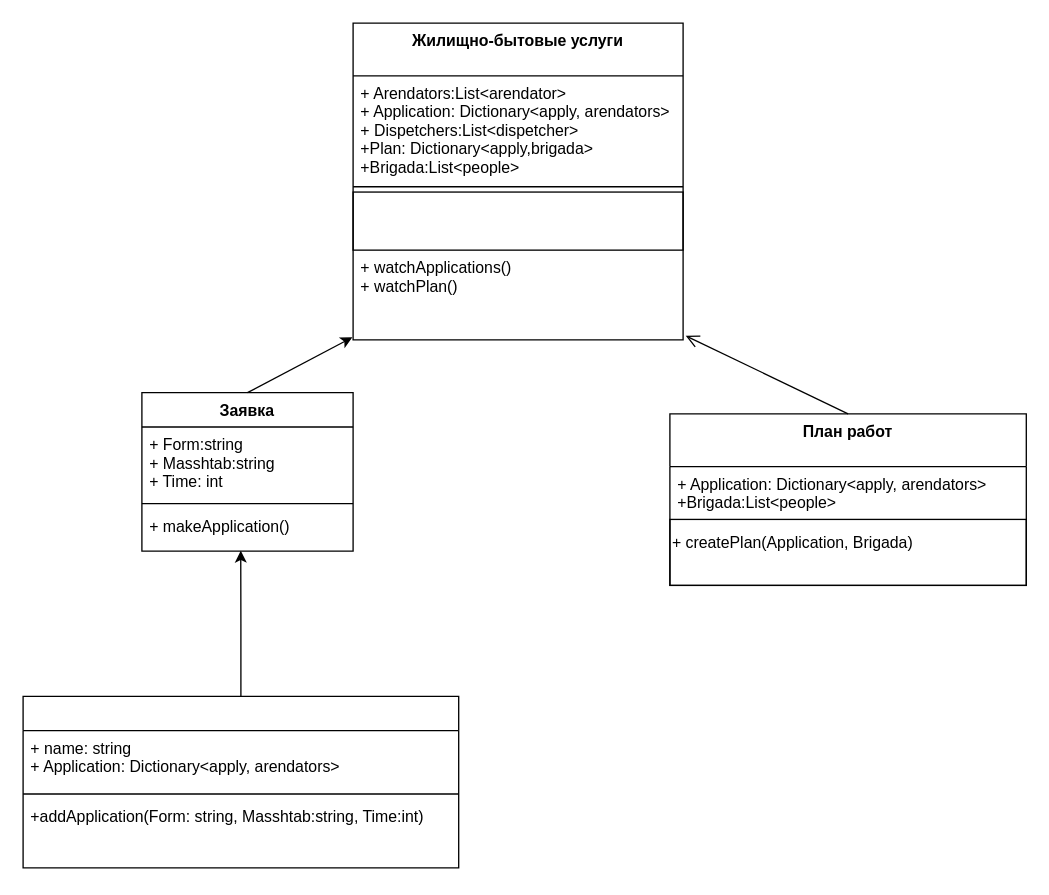
The diagram is 1049 pixels wide and 895 high, and some of its shapes have lost their labels. Here are the shapes that lost their labels. From the top down, the box of each, then its label:
(352, 191, 683, 250): + addApplication(Application application) + addPlan(Plan plan)
(22, 695, 459, 868): Диспетчер
